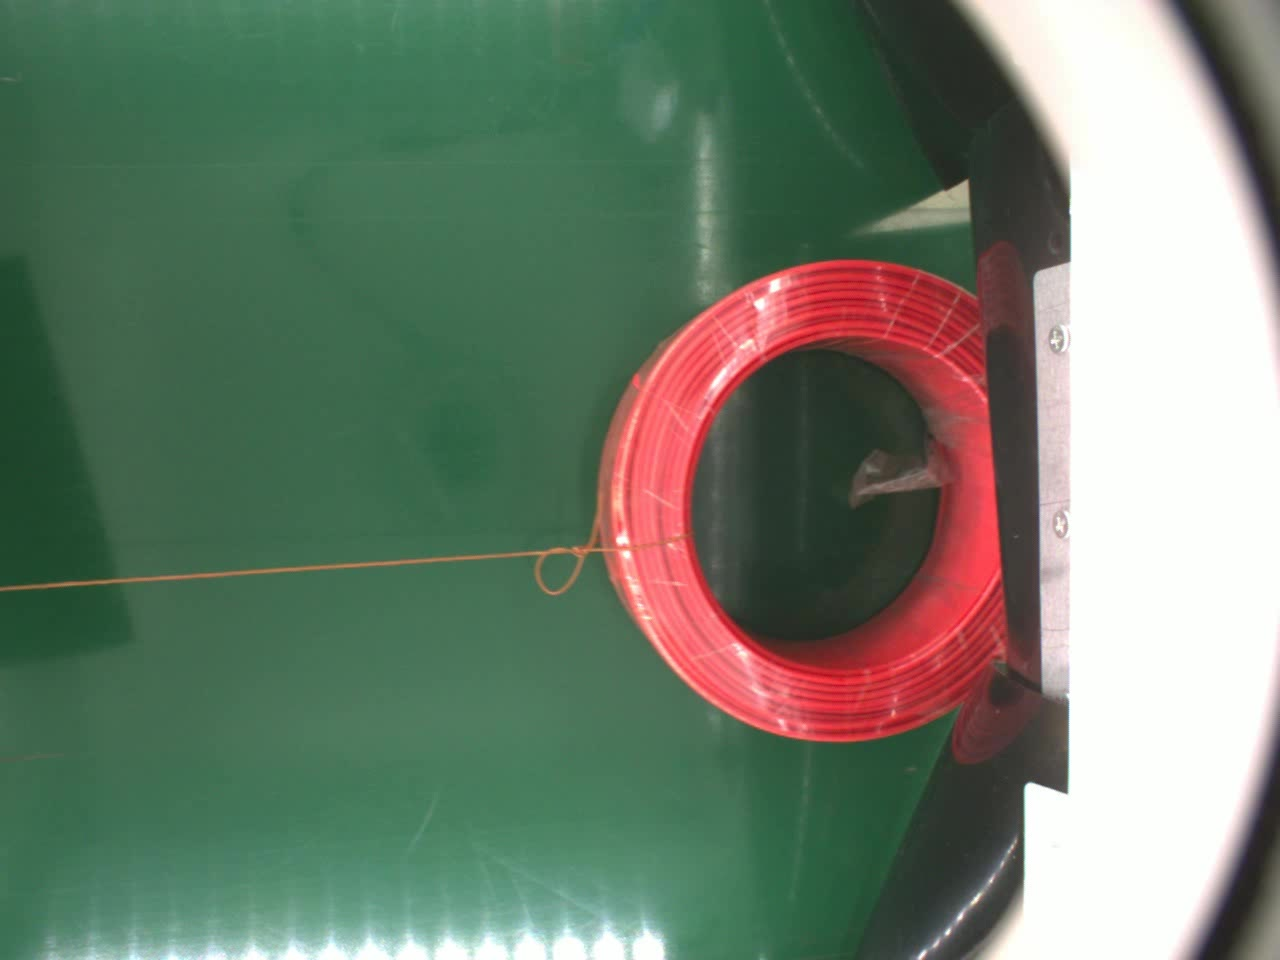red: (592, 257, 1007, 751)
